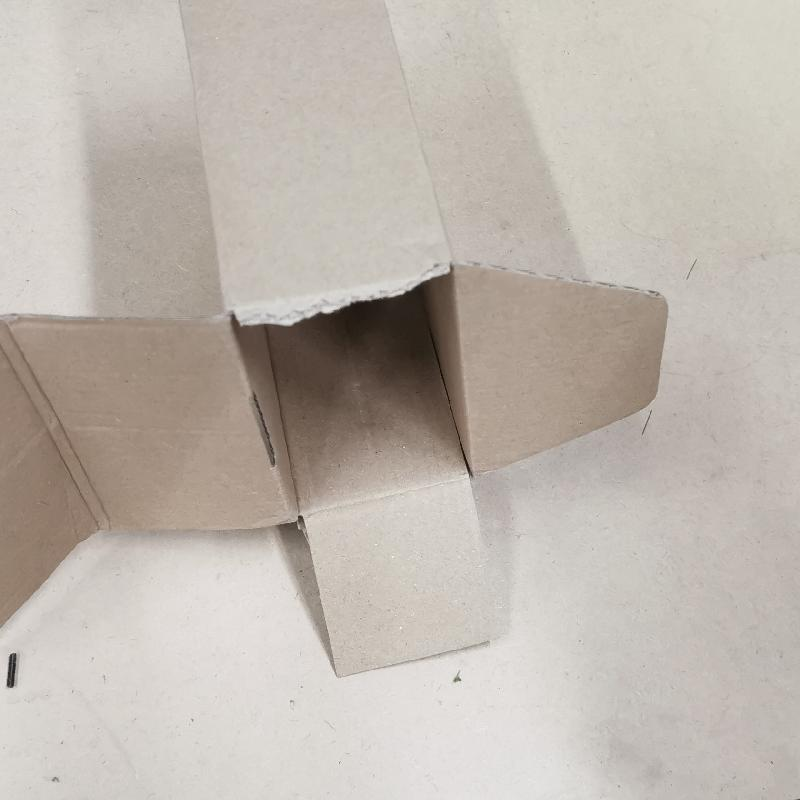boxes: (1, 6, 673, 685)
